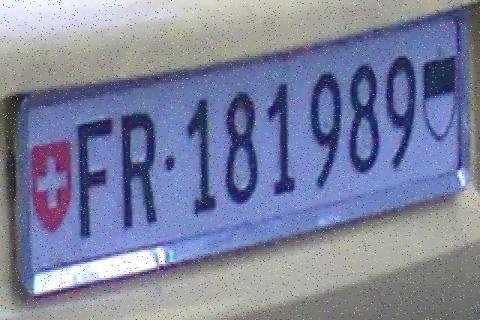LicensePlate: (2, 2, 476, 292)
